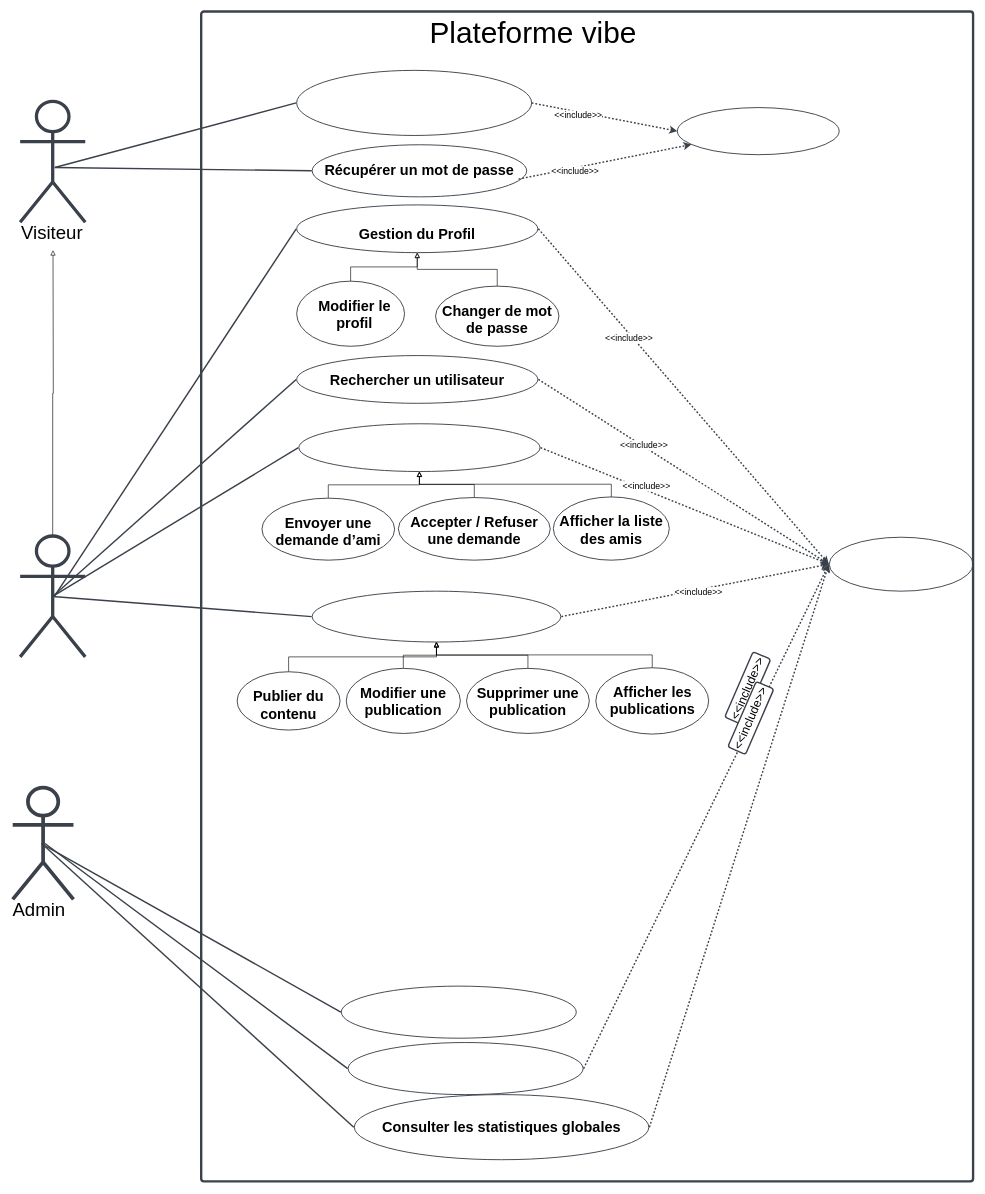
Image size: 985x1194. Some labels were removed from this diagram. Each missing label, with the centre of its shape:
"Ajouter tag" goes at (458,1011).
"Client" goes at (52,596).
"Gestion des Amis" goes at (419,447).
"S'authentifier" goes at (901,563).
"S'inscrire" goes at (414,103).
"Supprimer tag" goes at (465,1068).
"Système de Publications" goes at (436,616).
"Vérifier un email" goes at (758,131).
